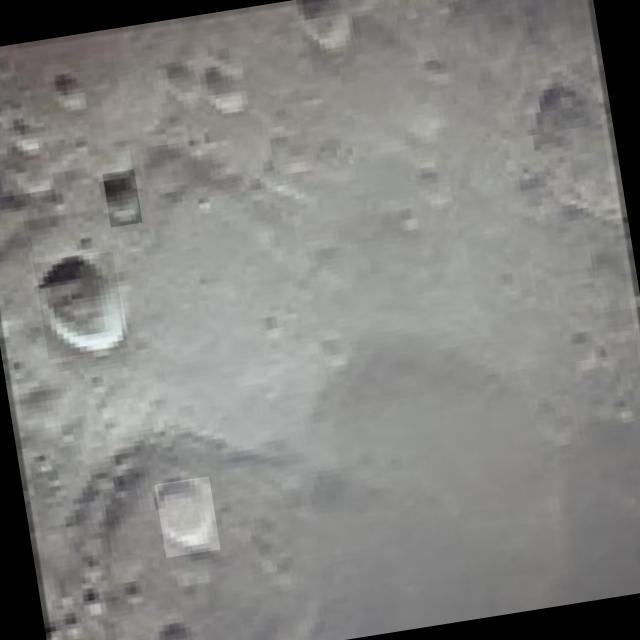crater: (34, 252, 128, 360), (155, 476, 221, 558), (102, 170, 142, 228), (206, 63, 250, 114), (52, 64, 91, 113)
